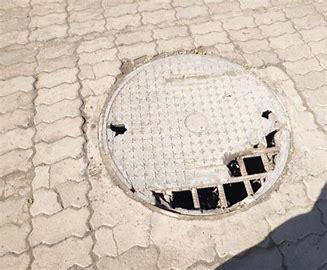wellcover: (98, 53, 287, 221)
